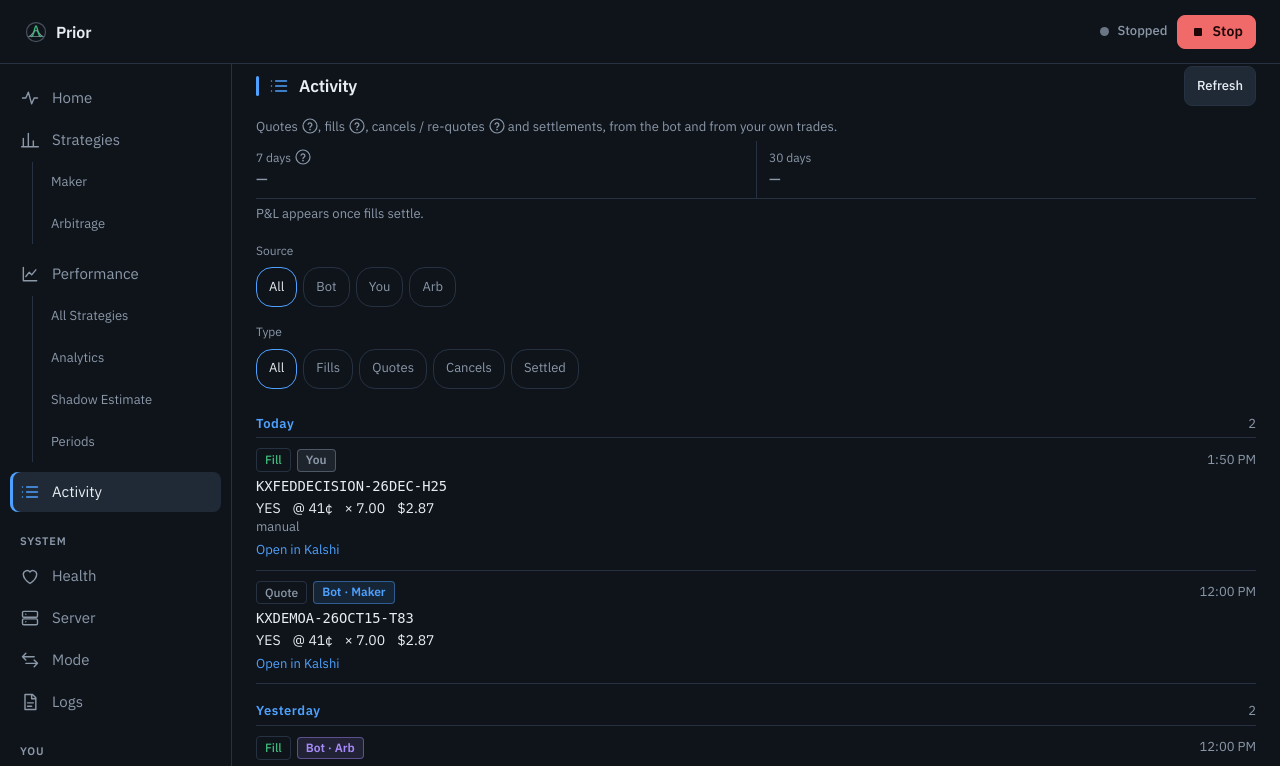
Test: Activity › type chips filter by event kind
Expected: the heading "Today" is shown, [256, 415, 294, 433]
Click the button "Cancels". click: coordinates (469, 369)
box: [433, 349, 505, 389]
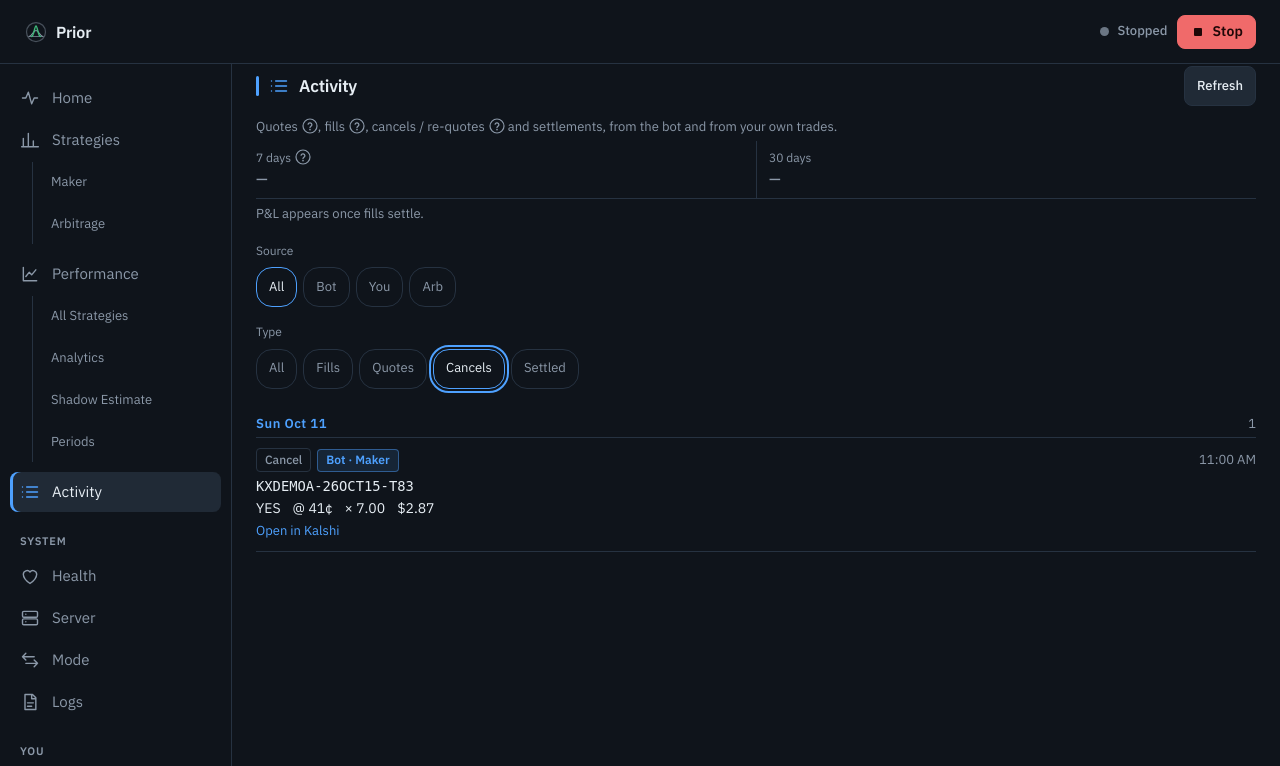
Expected: the number of list items is 1, [256, 438, 1256, 552]
